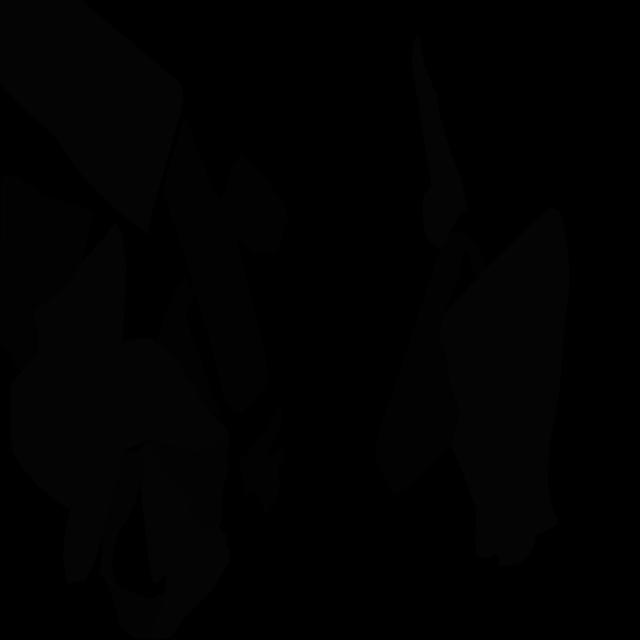cardboard: (162, 115, 288, 413), (374, 231, 486, 497), (0, 175, 94, 372), (156, 276, 221, 419), (240, 406, 284, 515)
metal: (99, 451, 164, 640), (150, 429, 230, 528)
soft_plastic: (438, 207, 570, 567), (10, 222, 126, 584), (138, 442, 230, 640), (115, 337, 228, 457), (412, 35, 468, 249)
